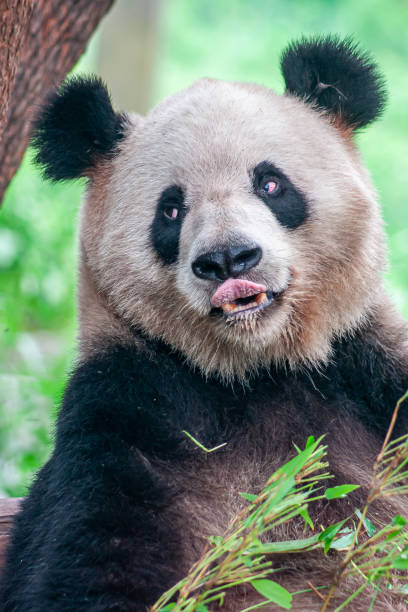panda: (25, 26, 408, 376)
